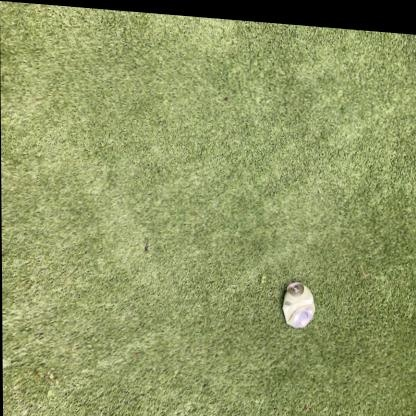trash: (283, 282, 314, 327)
